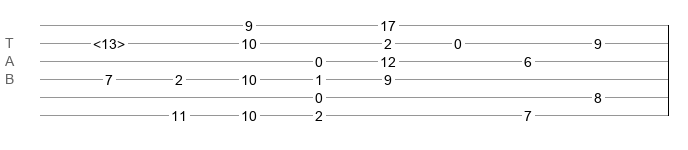0: (315, 54, 323, 64), (315, 90, 323, 100), (454, 36, 462, 46)
1: (315, 72, 323, 82)
10: (241, 108, 257, 118), (241, 36, 257, 46), (241, 72, 257, 82)
11: (171, 108, 187, 118)
12: (380, 54, 396, 64)
17: (380, 18, 396, 28)
2: (175, 72, 183, 82), (315, 108, 323, 118), (384, 36, 392, 46)
6: (524, 54, 532, 64)
7: (105, 72, 113, 82), (524, 108, 532, 118)
8: (594, 90, 602, 100)
9: (245, 18, 253, 28), (384, 72, 392, 82), (594, 36, 602, 46)
harmonic: (93, 36, 125, 46)
